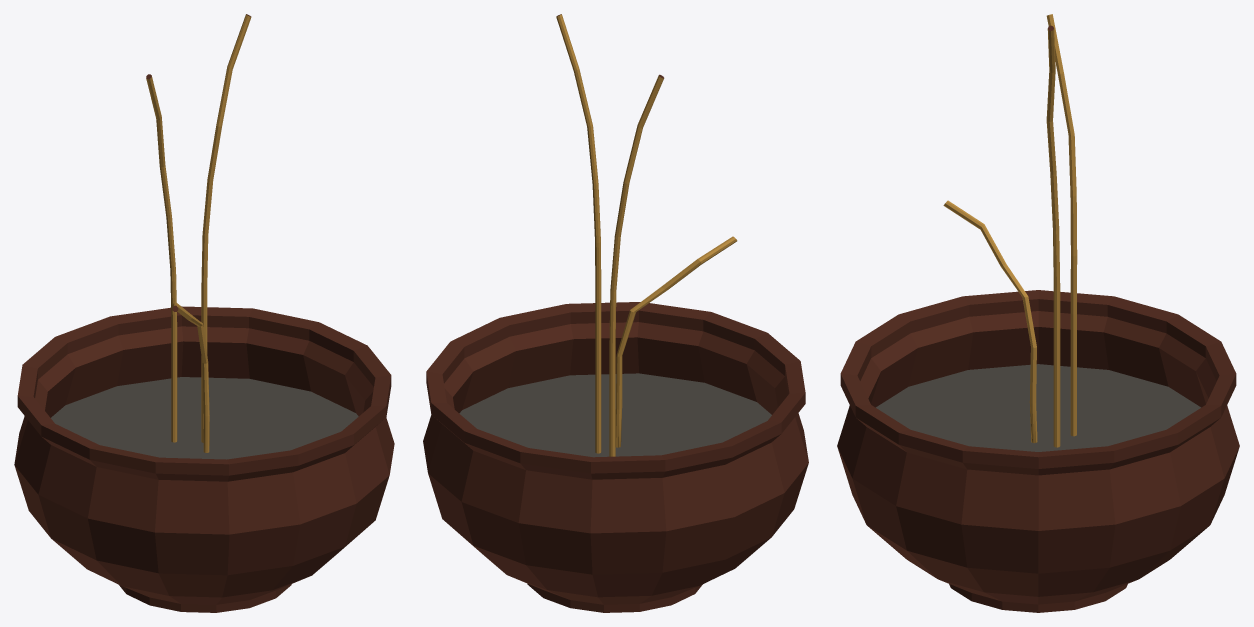
Rendered from IncenseBowl_v007(UV_Unwrapped).fbx.
3 views of the same model, side by side, from view 1: azimuth 30°, elevation 25°; view 2: azimuth 150°, elevation 25°; view 3: azimuth 270°, elevation 25° (orthographic). The views are drawn at different scales.
Parts seen in each view (by area): view 1: Bowl, IncenseDust, Incense; view 2: Bowl, IncenseDust, Incense; view 3: Bowl, IncenseDust, Incense.
Boxes of the visible parts, left/top/right/bottom form: Bowl: left=14, top=306, right=394, bottom=612; IncenseDust: left=51, top=377, right=358, bottom=459; Incense: left=146, top=14, right=251, bottom=452; Bowl: left=423, top=302, right=808, bottom=612; IncenseDust: left=459, top=373, right=771, bottom=457; Incense: left=556, top=14, right=737, bottom=456; Bowl: left=837, top=290, right=1239, bottom=612; IncenseDust: left=876, top=364, right=1200, bottom=451; Incense: left=943, top=14, right=1077, bottom=447.
Size of the model in its own units: 200 by 313 by 200.
